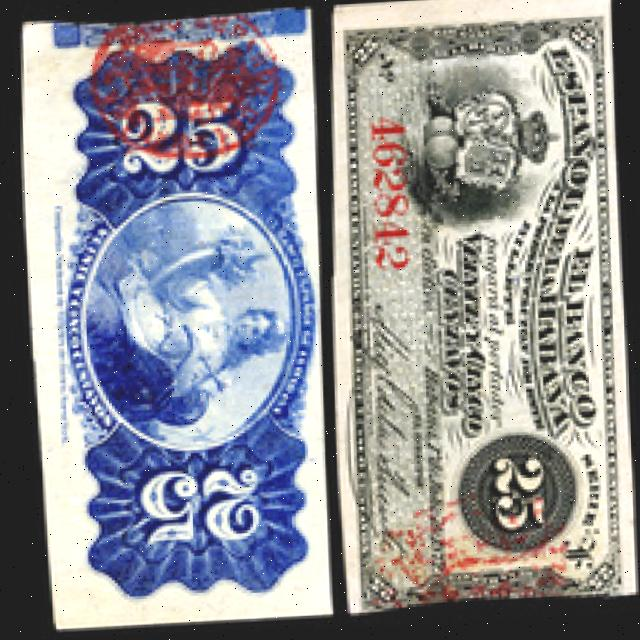banknote: (18, 4, 336, 630), (329, 0, 639, 615)
